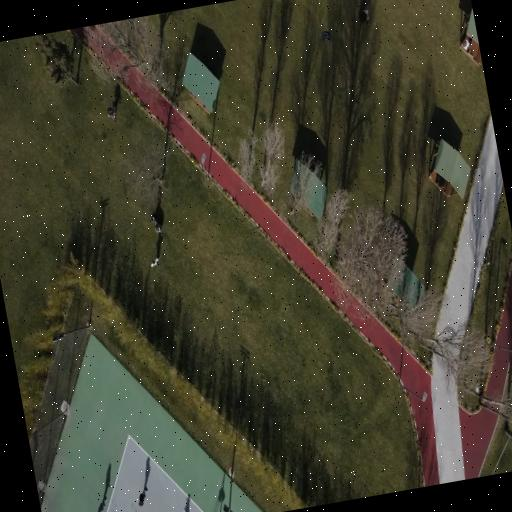person: (151, 213, 160, 232), (358, 6, 368, 23), (138, 487, 146, 505), (107, 103, 115, 120), (461, 36, 470, 51), (97, 496, 105, 511), (151, 257, 158, 267)
